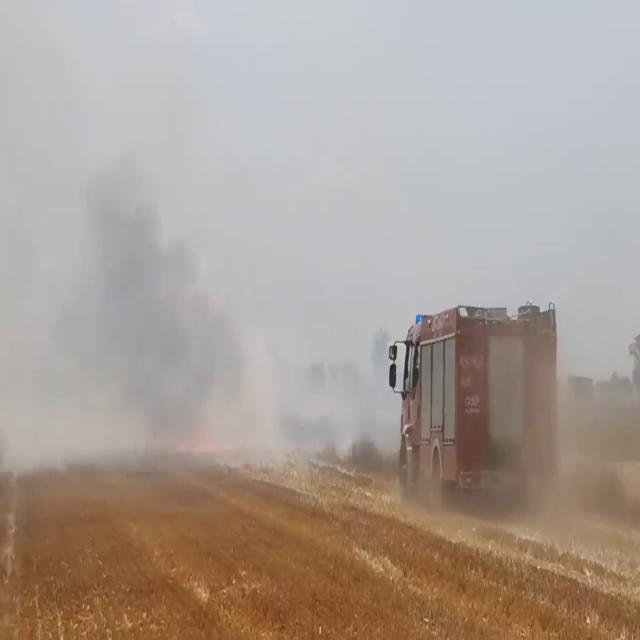Smoke: (0, 2, 392, 520)
